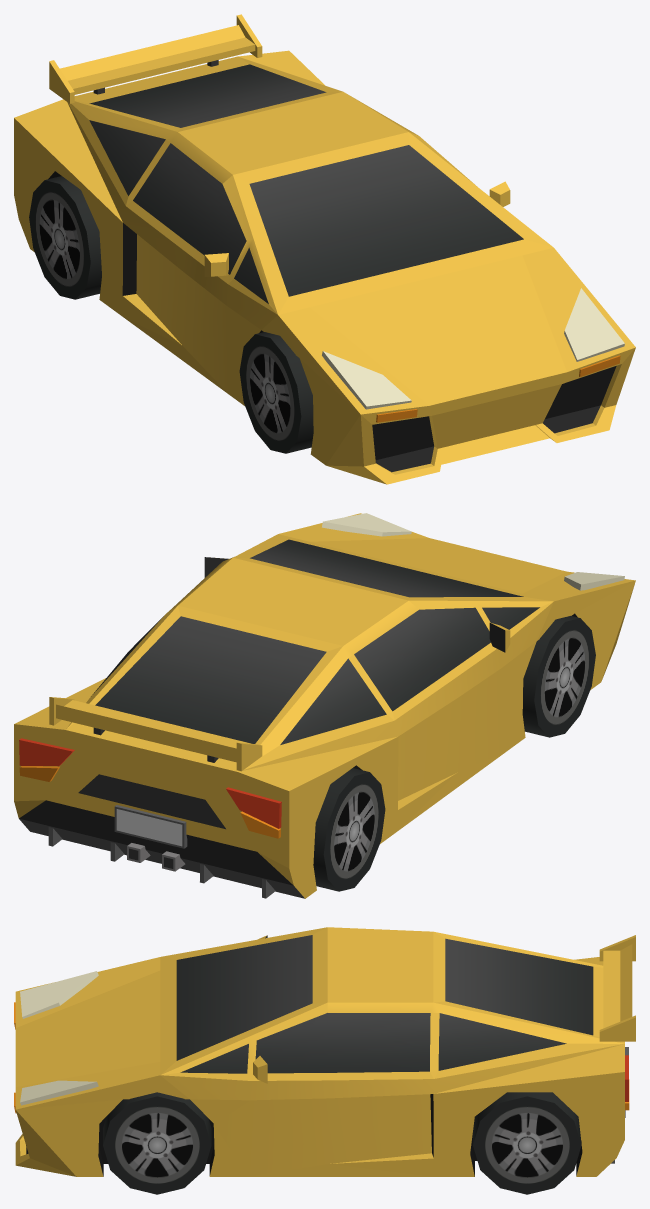
File: CarC.fbx
3 renders of one model, top to bottom at view 1: azimuth 30°, elevation 25°; view 2: azimuth 150°, elevation 25°; view 3: azimuth 270°, elevation 25°, orthographic. The views are drawn at different scales.
Visible parts, largest first — view 1: CarC, TireFR, TireBR; view 2: CarC, TireBR, TireFR; view 3: CarC, TireBL, TireFL.
Part boxes in pixels (x1,y1,x2,y2): CarC: [14, 14, 635, 484]; TireFR: [239, 332, 313, 453]; TireBR: [29, 176, 101, 299]; CarC: [14, 513, 635, 898]; TireBR: [313, 768, 385, 891]; TireFR: [522, 616, 595, 737]; CarC: [14, 927, 635, 1176]; TireBL: [473, 1092, 581, 1194]; TireFL: [103, 1092, 211, 1194].
Bounding box in the file's own units: 208 × 125 × 423.
